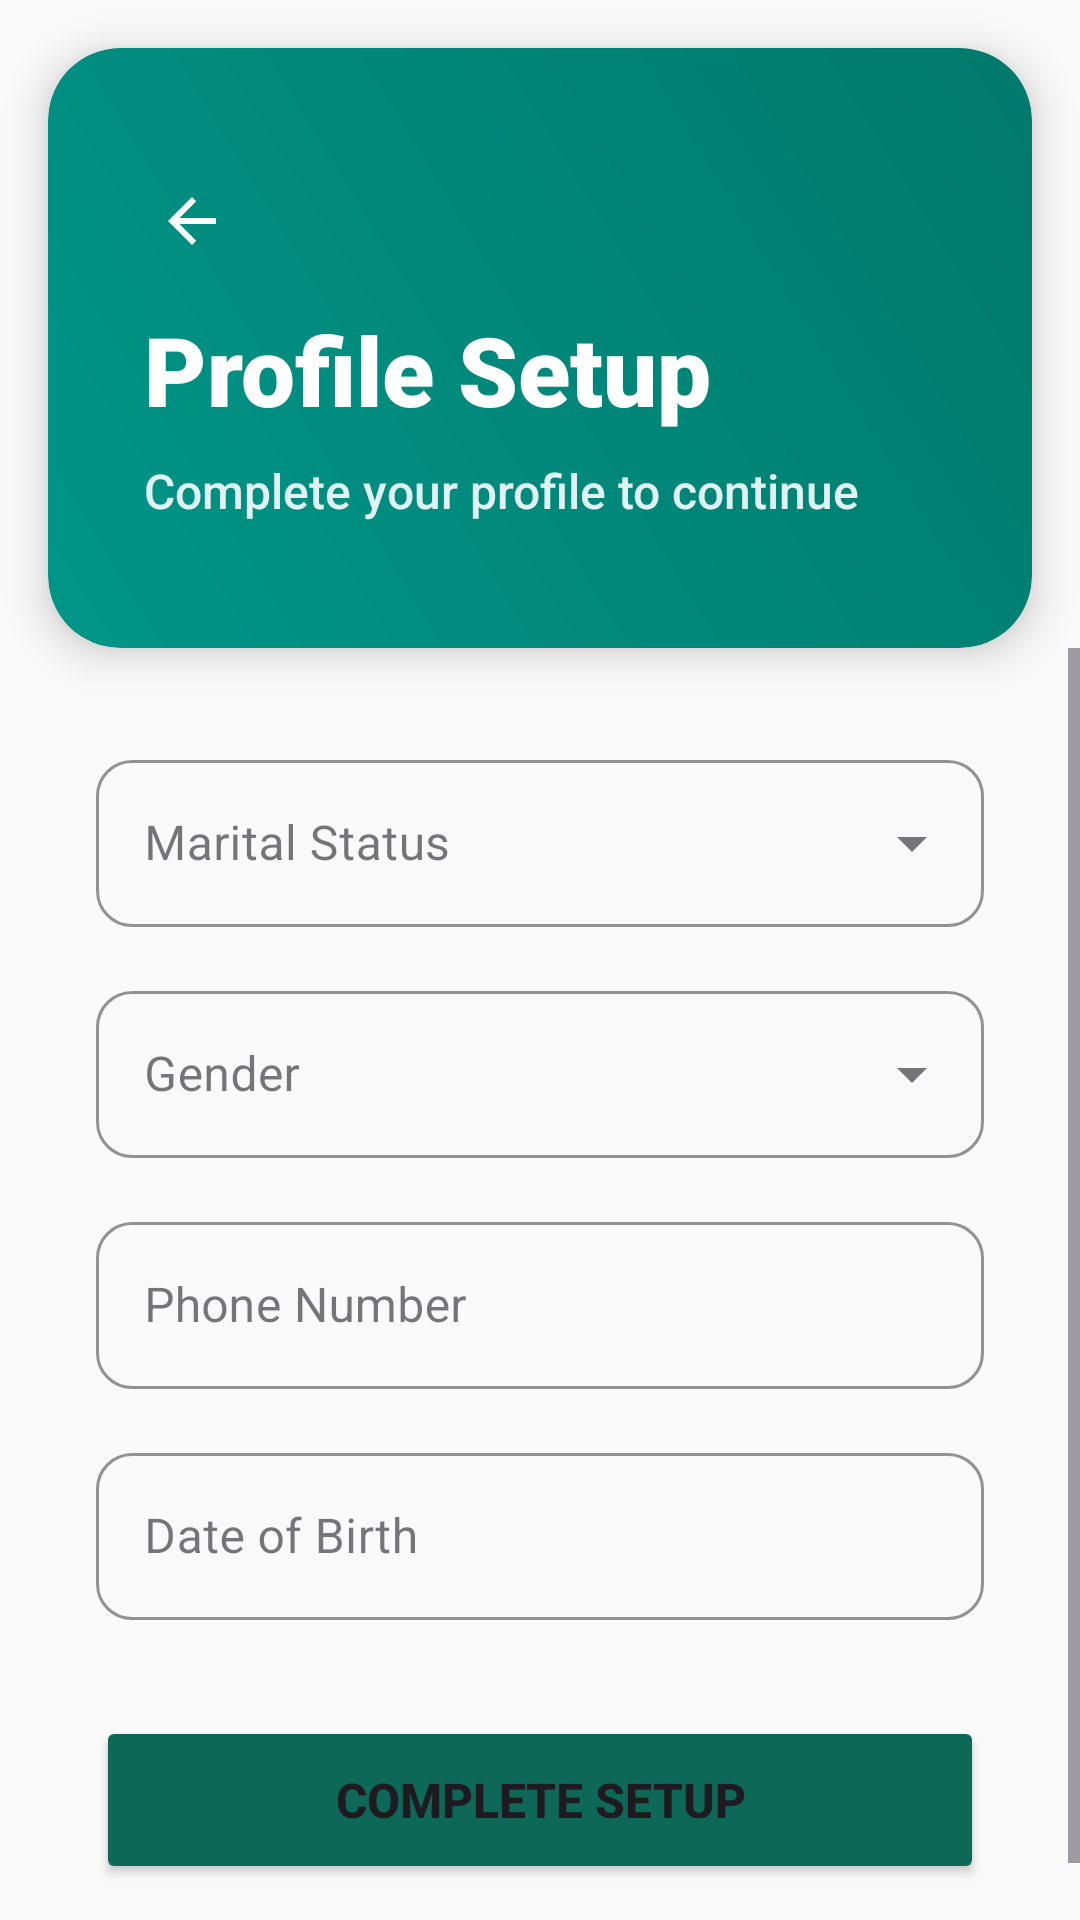

Icons on this 1080 × 1920 Android screen, each with its box as (x1, y1, x2, y2):
back: (168, 197, 216, 245)
